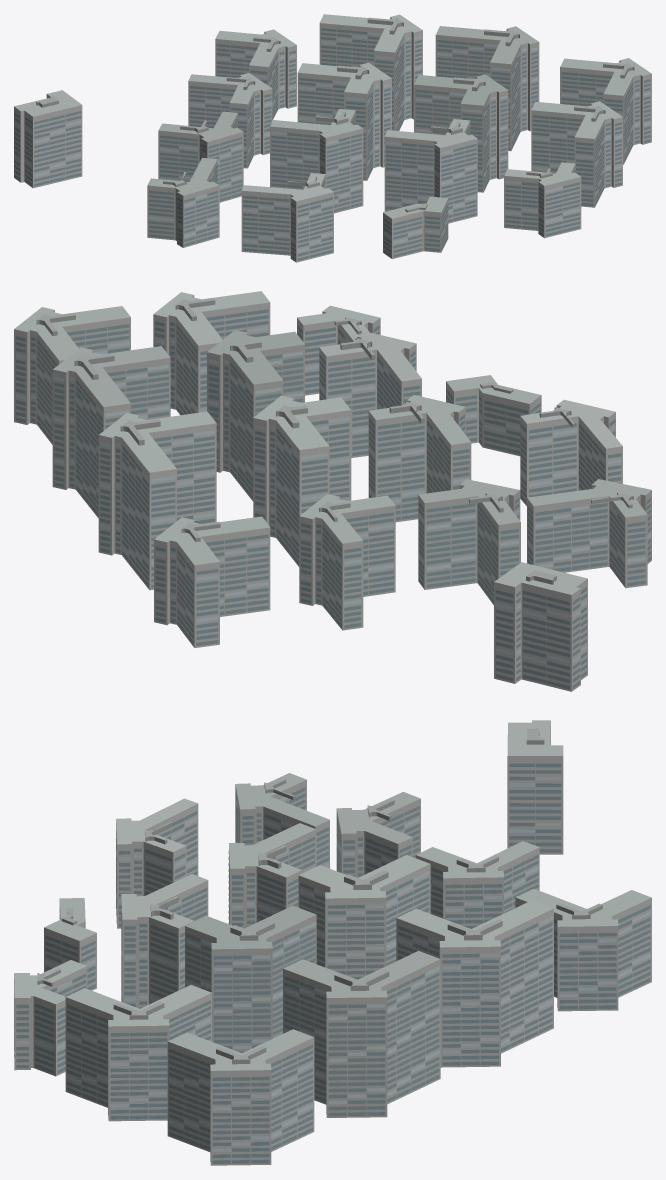
Rendered from apt-a13375907.glb.
The picture shows the model from 3 angles, top to bottom: view 1: azimuth 30°, elevation 25°; view 2: azimuth 150°, elevation 25°; view 3: azimuth 270°, elevation 25°; orthographic projection. The views are drawn at different scales.
Visible parts, largest first — view 1: apt-a13375907; view 2: apt-a13375907; view 3: apt-a13375907.
Boxes of the visible parts, bbox=[...] form: apt-a13375907: bbox=[14, 14, 651, 262]; apt-a13375907: bbox=[14, 291, 651, 691]; apt-a13375907: bbox=[14, 720, 651, 1165].
Bounding box in the file's own units: 345 × 58 × 268.
